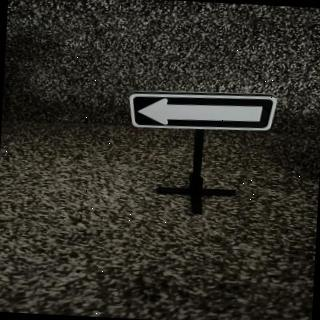sign_oneway_left: (129, 88, 279, 136)
